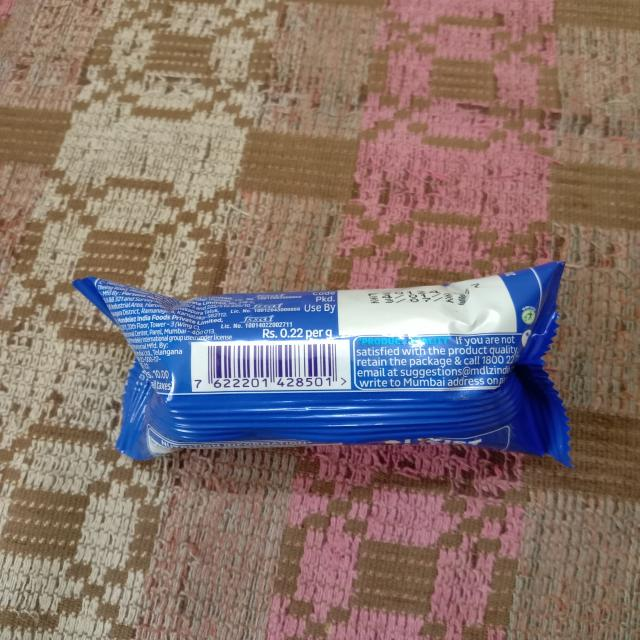oreo biscuit: (59, 269, 591, 468)
